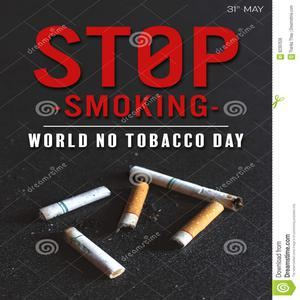cigarette: (126, 158, 248, 211), (60, 226, 125, 281), (31, 186, 115, 220)
